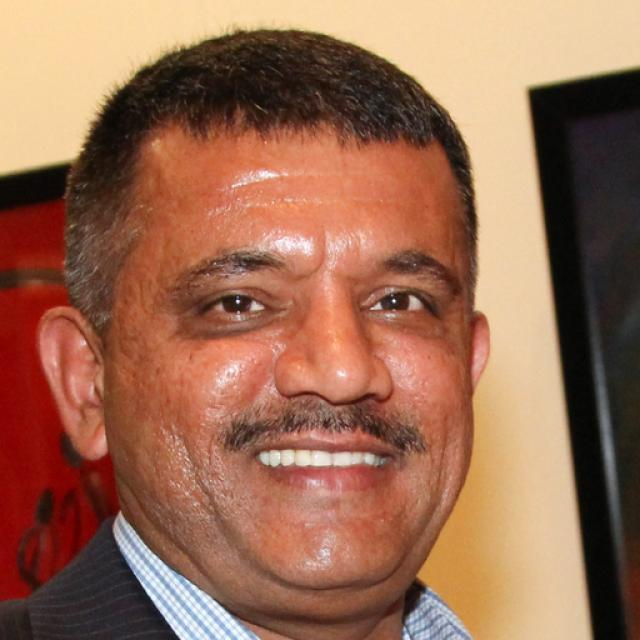Dark Circle: (176, 314, 283, 338), (365, 313, 440, 335)
Wrinkle: (233, 170, 362, 190), (235, 193, 361, 212)
